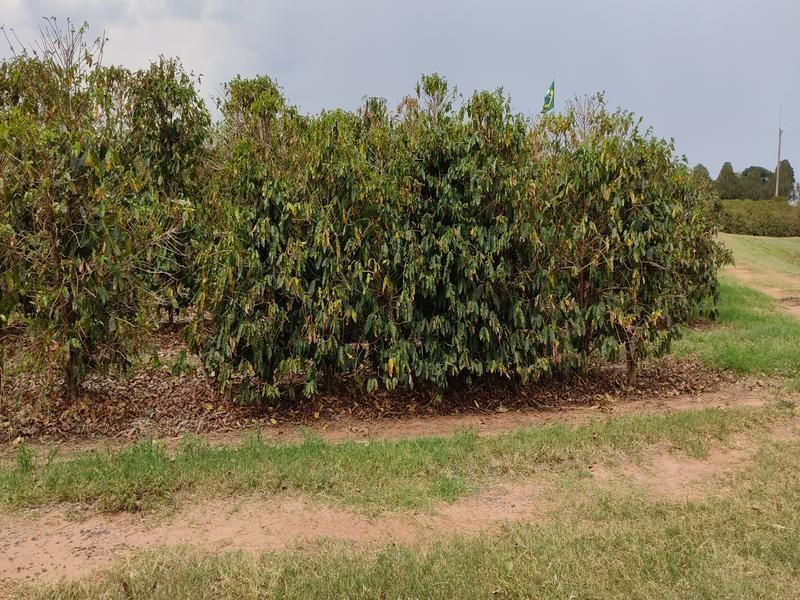coffee: (1, 18, 178, 441), (186, 66, 308, 422), (370, 101, 487, 405), (594, 148, 727, 403), (292, 112, 373, 422), (480, 145, 556, 414), (553, 138, 615, 393)
